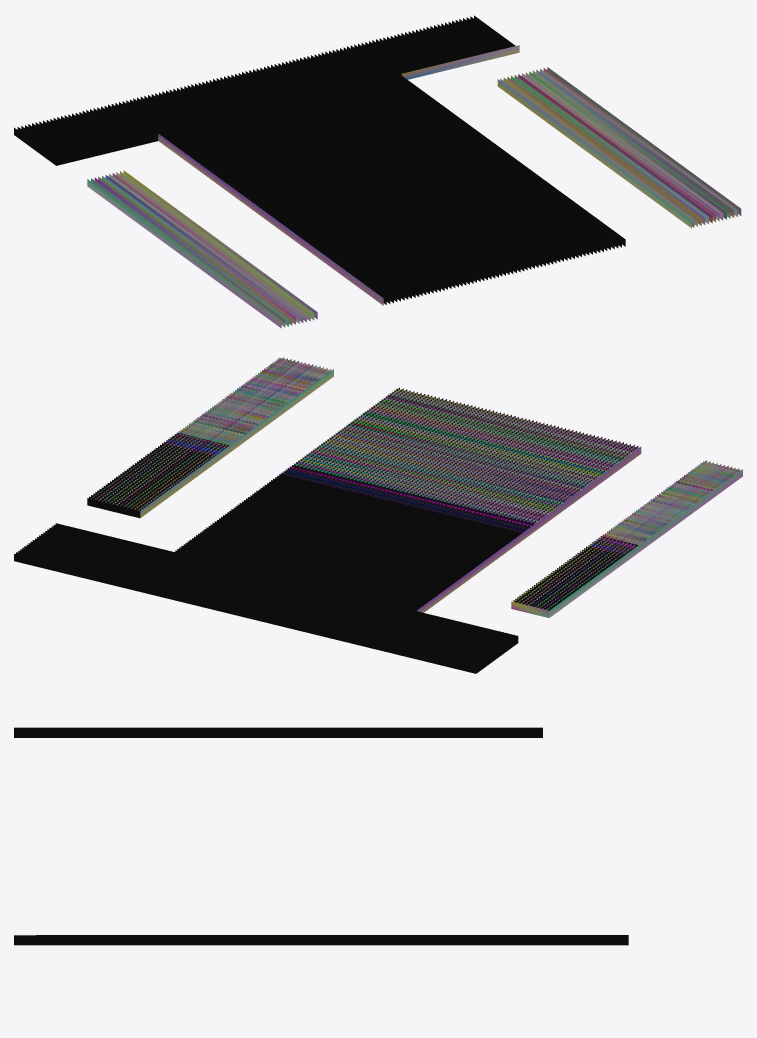
Rendered from Grass_31.gltf.
The picture shows the model from 3 angles, top to bottom: view 1: azimuth 30°, elevation 25°; view 2: azimuth 150°, elevation 25°; view 3: azimuth 270°, elevation 25°; orthographic projection. The views are drawn at different scales.
Parts seen in each view (by area): view 1: Grass_31; view 2: Grass_31; view 3: Grass_31.
Part boxes in pixels (x1,y1,x2,y2): Grass_31: (14,15,741,328); Grass_31: (14,357,742,673); Grass_31: (14,727,628,945).
Size of the model in its own units: 5.12 by 0.1031 by 5.12.
